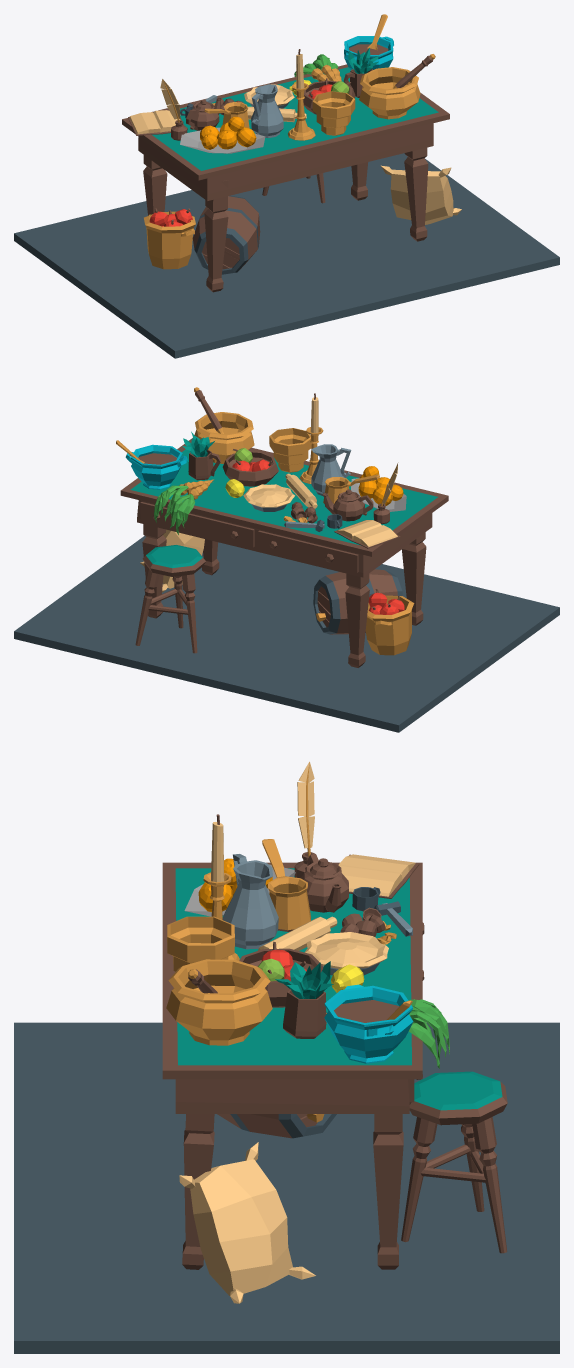
The model's file is table.glb.
3 renders of one model, top to bottom at view 1: azimuth 30°, elevation 25°; view 2: azimuth 150°, elevation 25°; view 3: azimuth 270°, elevation 25°, orthographic. The views are drawn at different scales.
Visible parts, largest first — view 1: group1408092273; view 2: group1408092273; view 3: group1408092273.
Part boxes in pixels (x1,y1,x2,y2): group1408092273: [14, 14, 559, 358]; group1408092273: [14, 387, 559, 732]; group1408092273: [14, 761, 559, 1353].
Bounding box in the file's own units: 3.2 × 1.75 × 2.32.
Materials: 1 (1 with a texture image).
